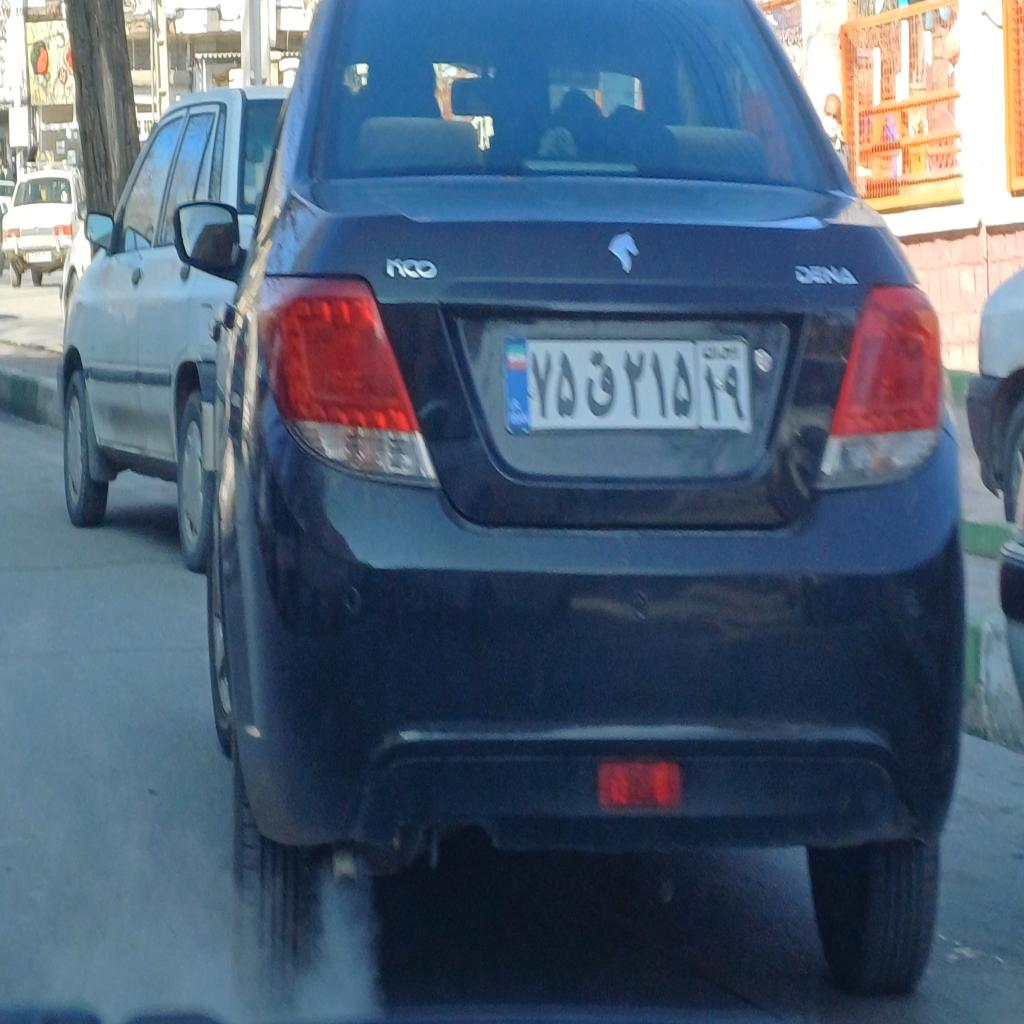Plates: (505, 335, 751, 434)
